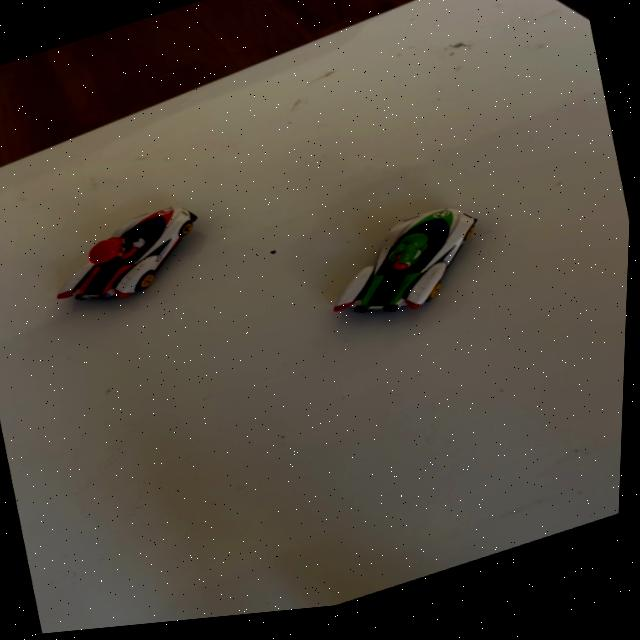mario: (31, 195, 227, 334)
yoshi: (300, 193, 511, 356)
